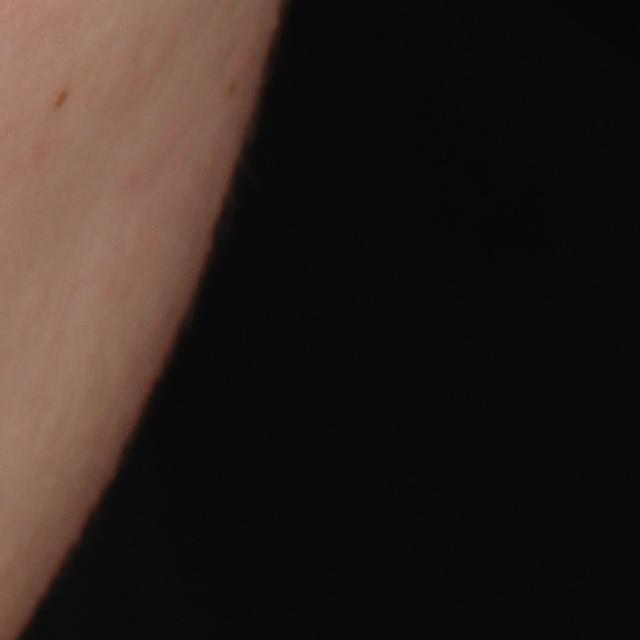nevus: (50, 82, 72, 107)
